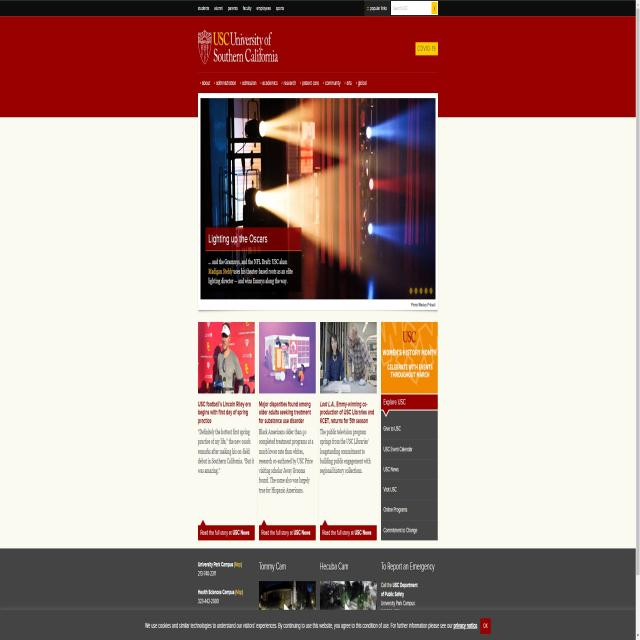tab-bar: (196, 70, 370, 89)
